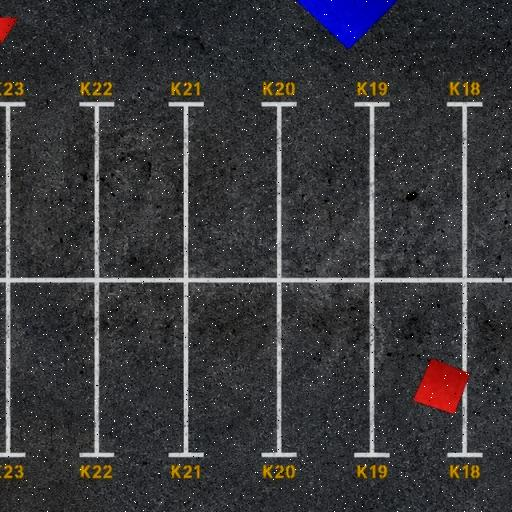BLUE_SQUARE: (288, 0, 409, 50)
RED_SQUARE: (412, 358, 471, 415)
